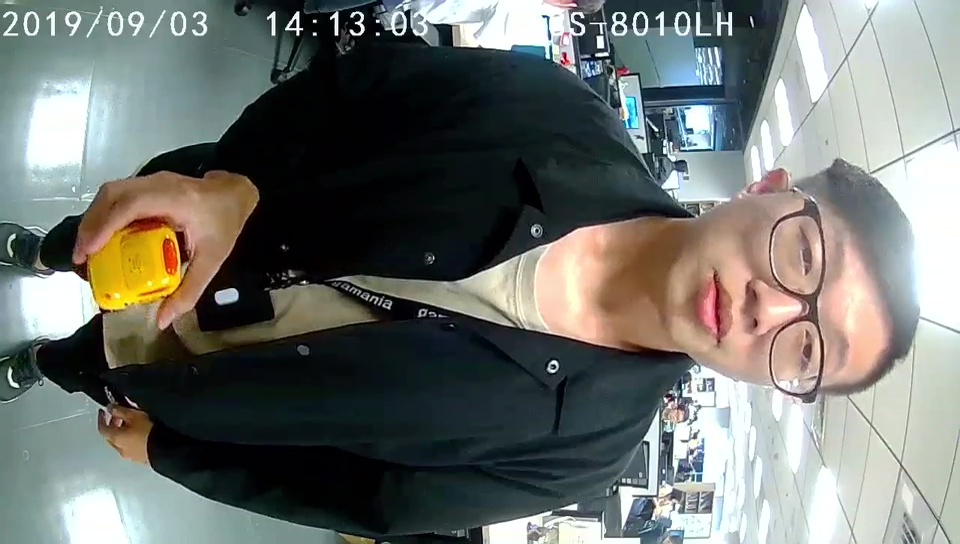car: (87, 220, 184, 311)
